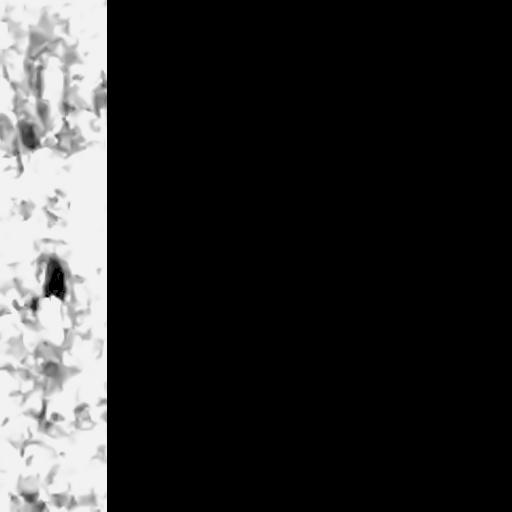egg: (43, 256, 64, 299)
